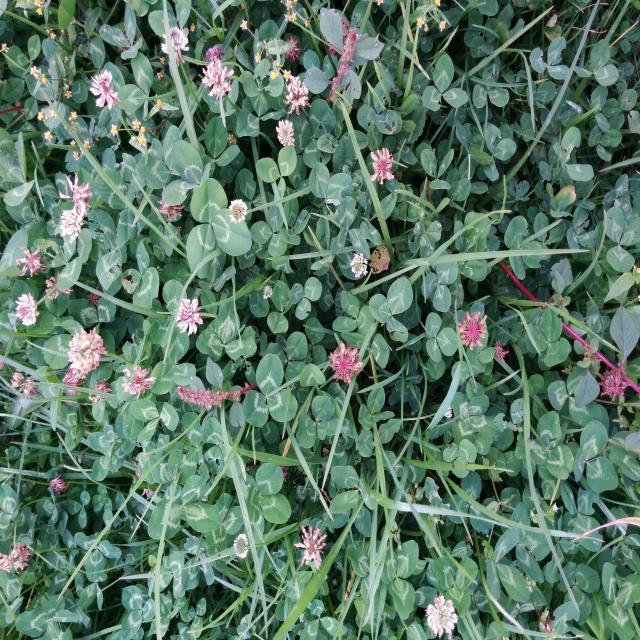Four Leaf Clover: (451, 395, 500, 450)
